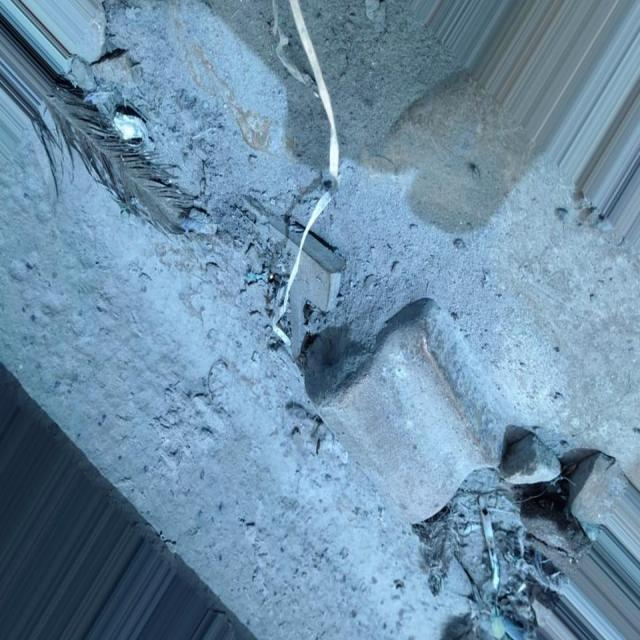Missing Fastener: (298, 283, 551, 551)
